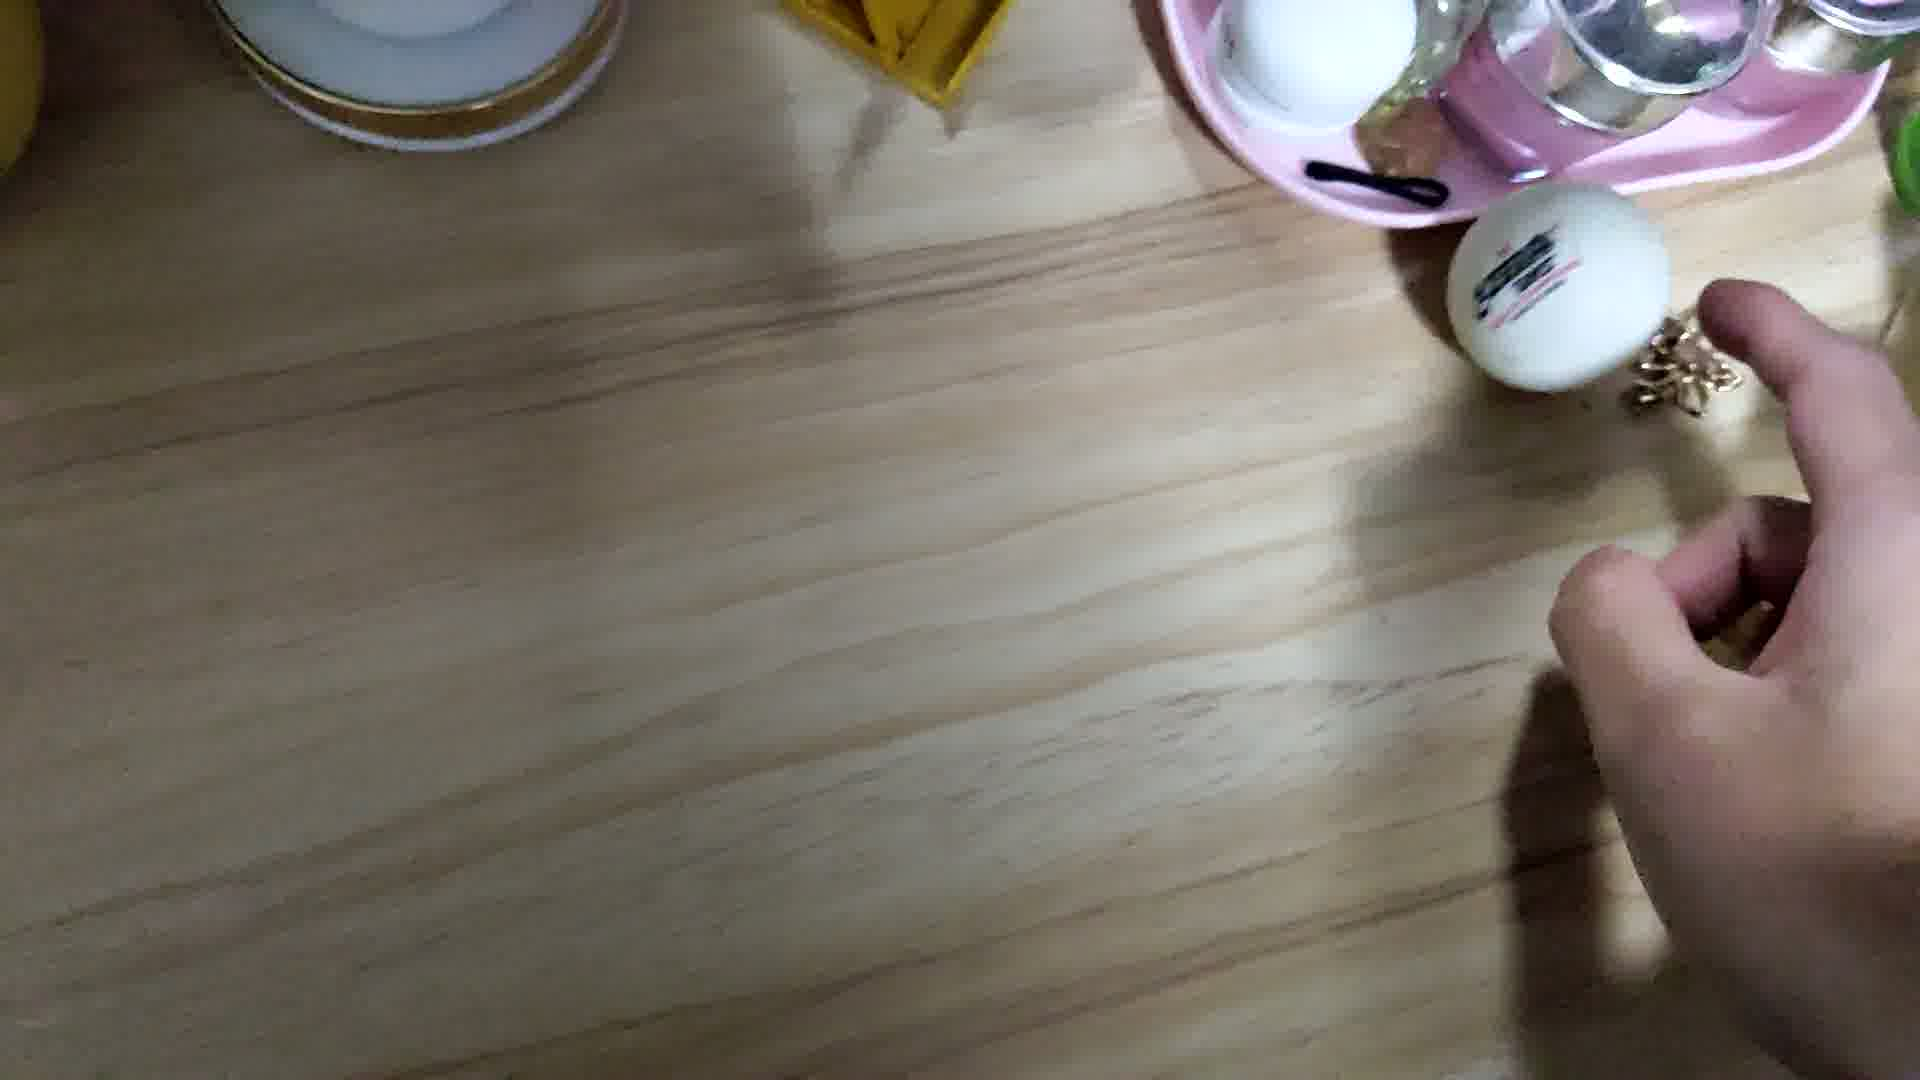Ball: (1443, 179, 1685, 392)
